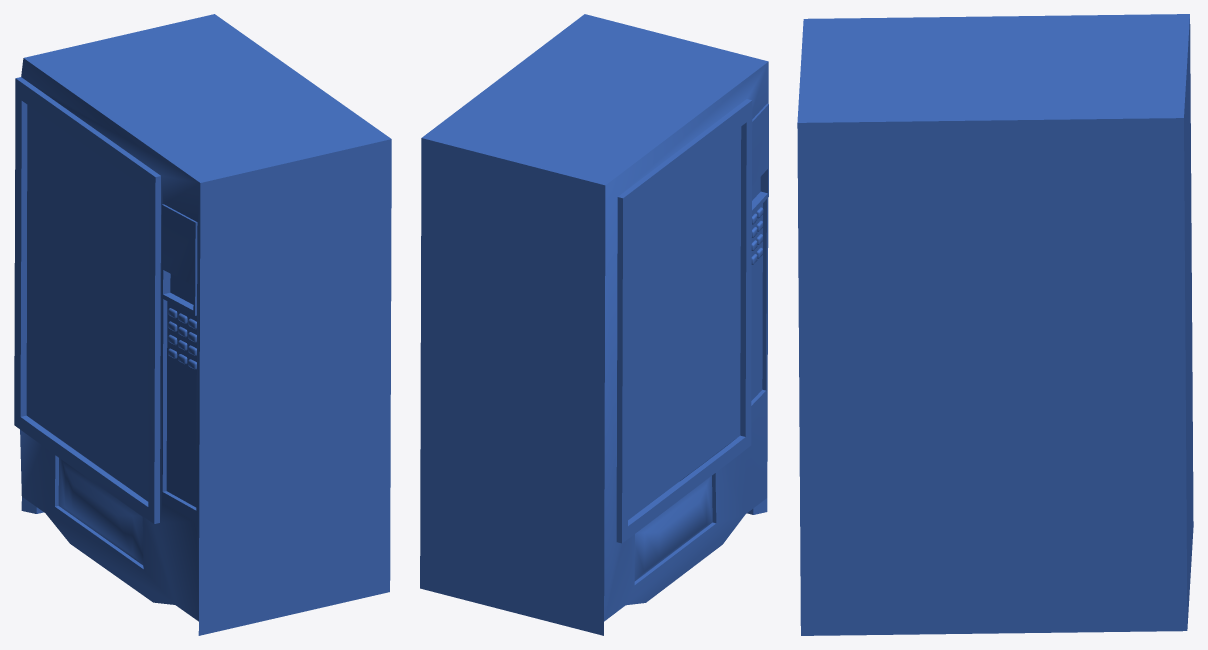
Rendered from SnackVending.fbx.
3 views of the same model, side by side, from view 1: azimuth 30°, elevation 25°; view 2: azimuth 150°, elevation 25°; view 3: azimuth 270°, elevation 25° (orthographic). The views are drawn at different scales.
Visible parts, largest first — view 1: Vending Machine; view 2: Vending Machine; view 3: Vending Machine.
Boxes of the visible parts, left/top/right/bottom form: Vending Machine: left=14, top=14, right=391, bottom=635; Vending Machine: left=420, top=14, right=768, bottom=635; Vending Machine: left=797, top=14, right=1193, bottom=635.
Bounding box in the file's own units: 43.51 × 91.25 × 63.63.
